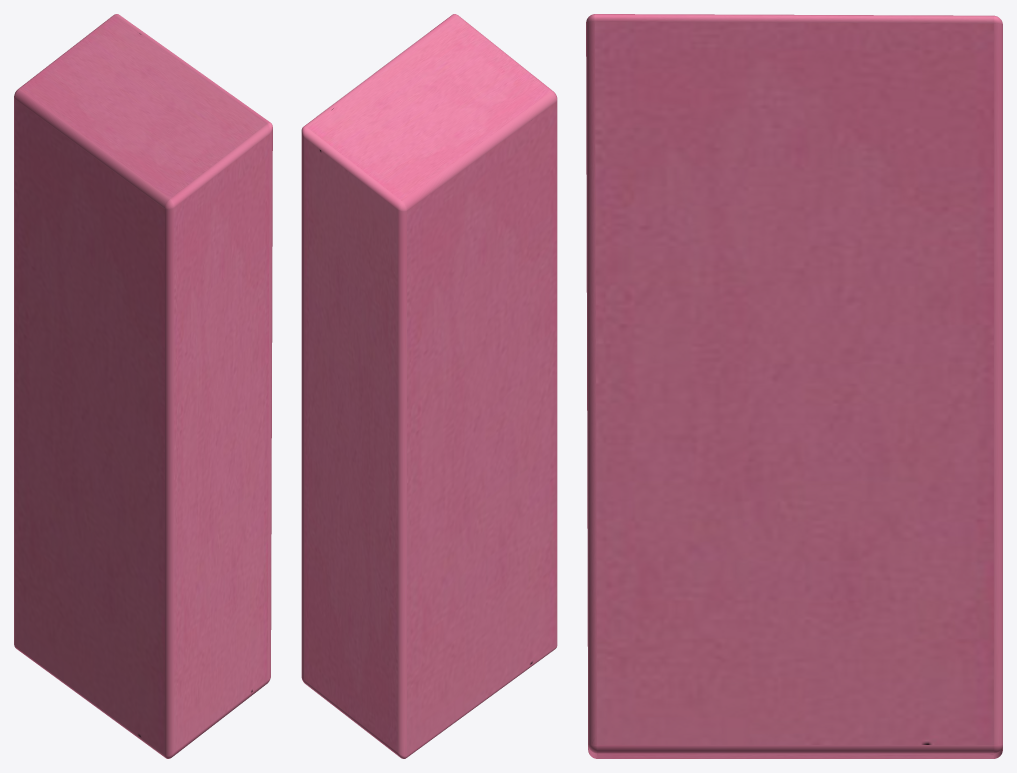
File: Eraser.fbx
3 views of the same model, side by side, from view 1: azimuth 30°, elevation 25°; view 2: azimuth 150°, elevation 25°; view 3: azimuth 270°, elevation 25° (orthographic). The views are drawn at different scales.
Parts seen in each view (by area): view 1: Cube; view 2: Cube; view 3: Cube.
Boxes of the visible parts, <box> form: Cube: <box>14,14,272,758</box>; Cube: <box>301,14,557,758</box>; Cube: <box>586,14,1002,758</box>.
Bounding box in the file's own units: 39.85 × 219 × 102.
Materials: 1 (1 with a texture image).
